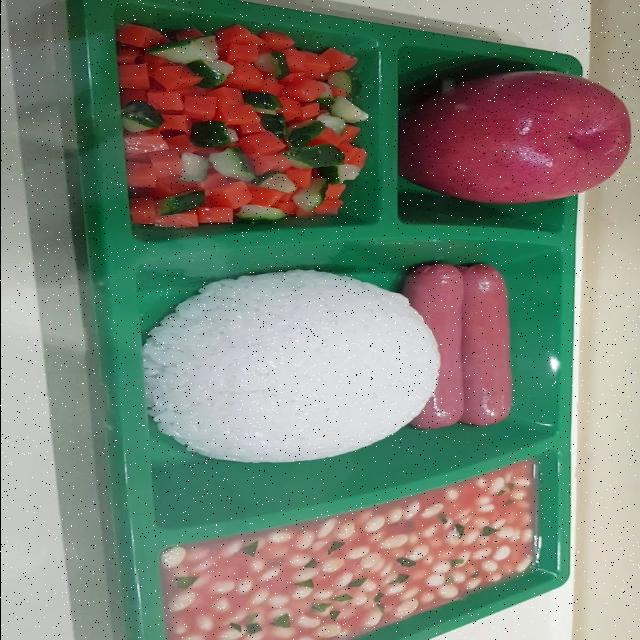Fruits: (398, 71, 629, 204)
Non green veg: (116, 24, 367, 228)
Pork: (402, 264, 511, 428)
Rice: (142, 270, 437, 462)
